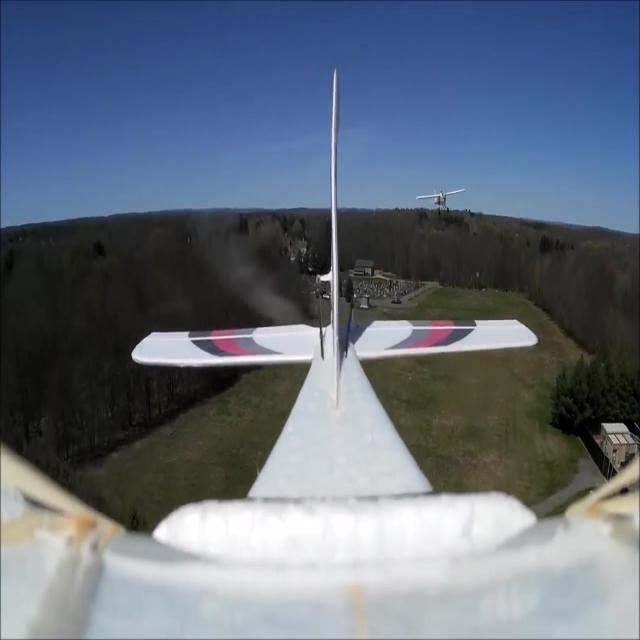iha: (415, 180, 466, 211)
